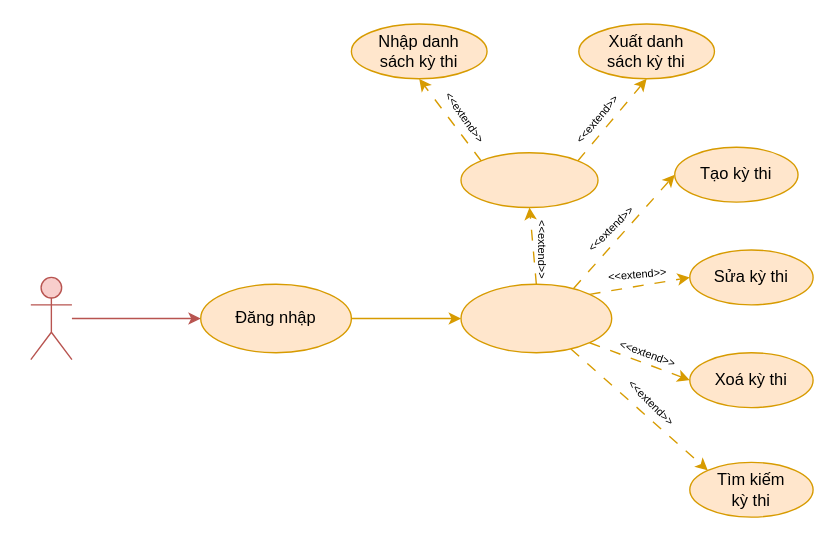
The diagram is 837 pixels wide and 541 high, and some of its shapes have lost their labels. The box of each missing label's shape, as (x1, y1, x2, y2) in pixels:
Giáo vụ: (29, 276, 72, 360)
Quản lý kỳ thi: (460, 283, 612, 353)
quản lý nhập xuất: (460, 151, 598, 208)
